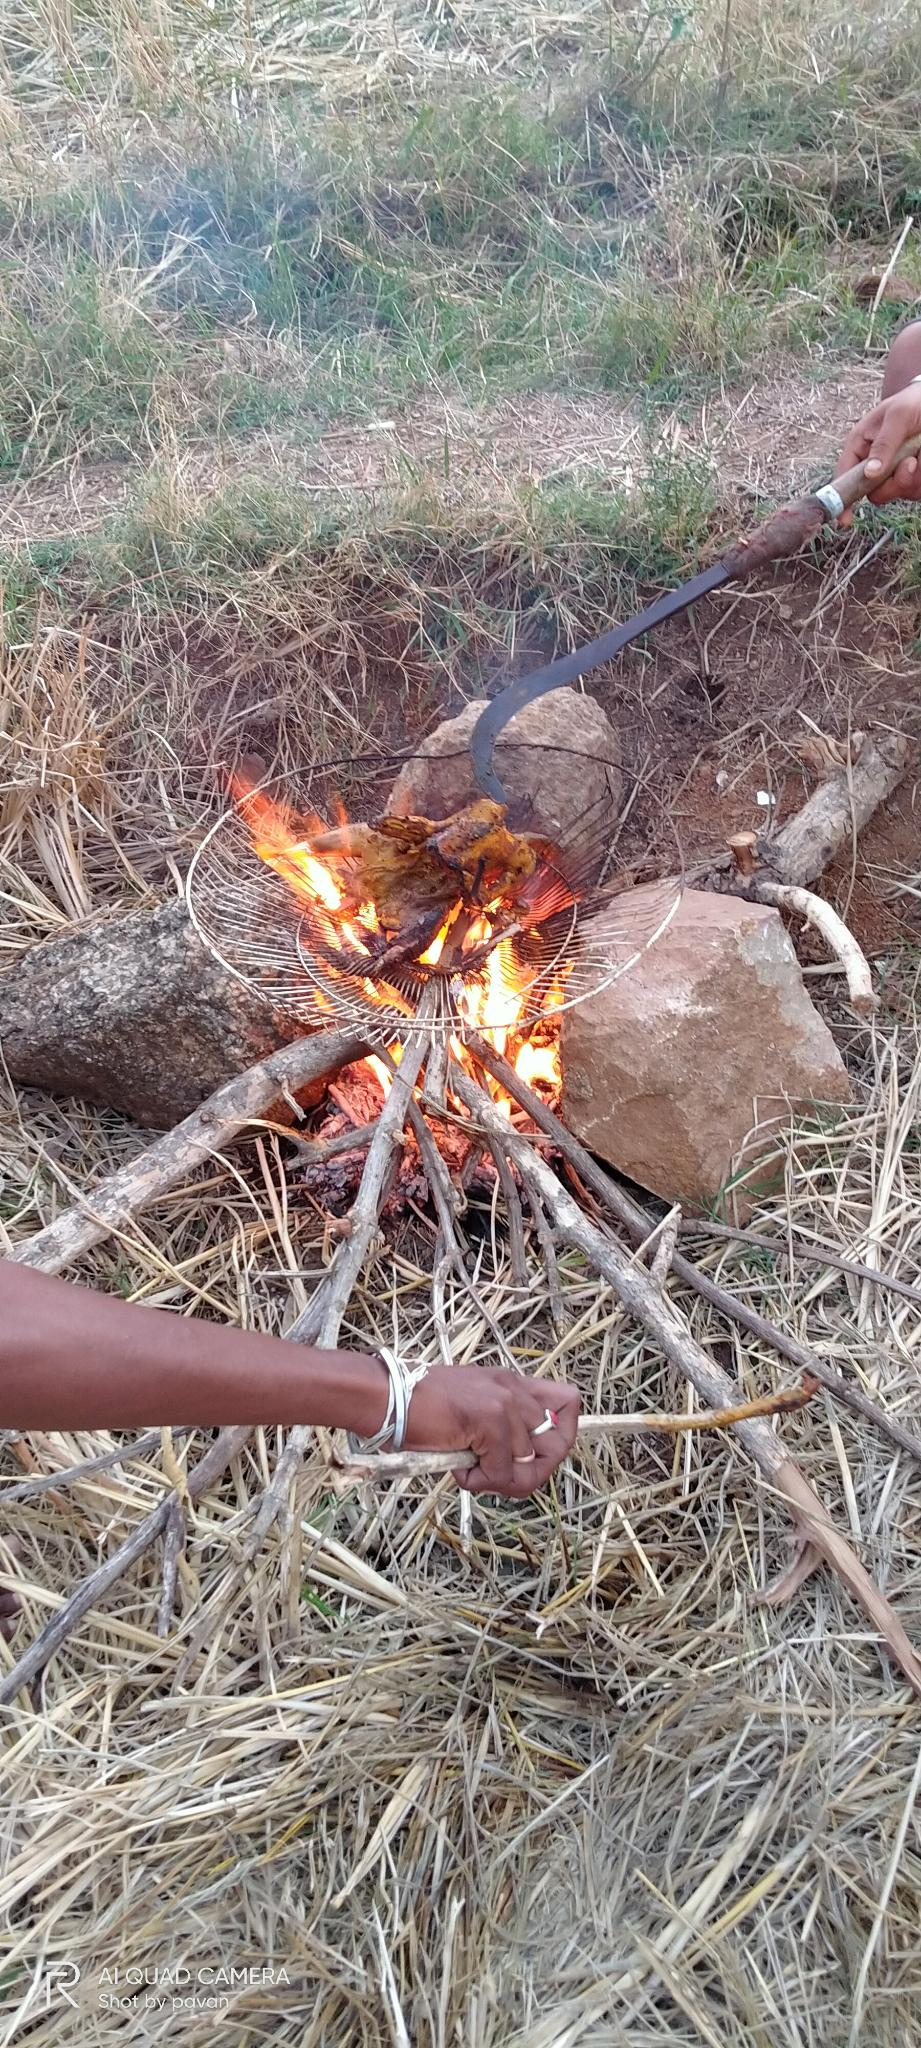Fire: (229, 773, 576, 1160)
